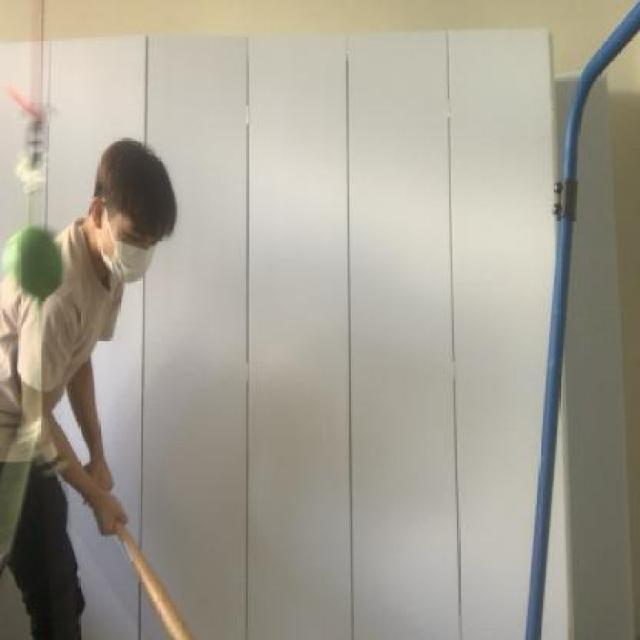baseball: (0, 220, 74, 308)
